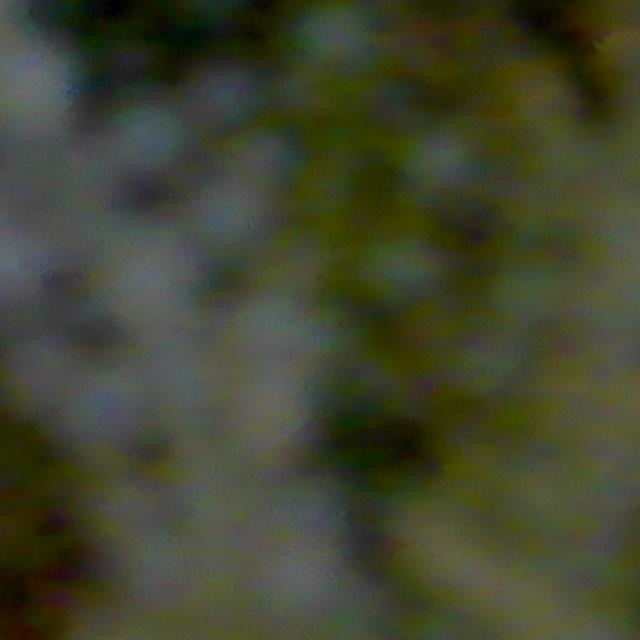SeaGrape: (61, 356, 183, 438), (397, 113, 490, 206), (250, 295, 341, 380), (357, 227, 449, 309), (216, 386, 313, 459), (122, 92, 207, 174), (295, 0, 384, 77), (0, 50, 71, 144), (240, 473, 337, 540), (180, 171, 262, 250), (107, 247, 189, 323), (264, 537, 322, 622), (134, 540, 207, 604), (98, 476, 159, 537), (16, 352, 77, 405)
